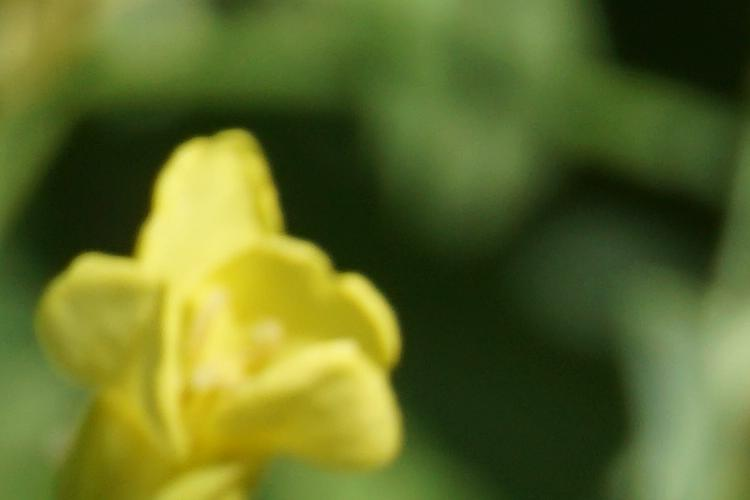yellow: (40, 148, 422, 475)
